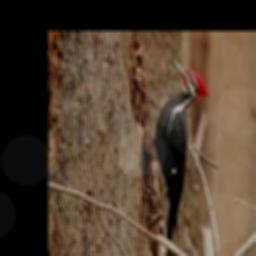Woodpecker: (154, 58, 210, 243)
